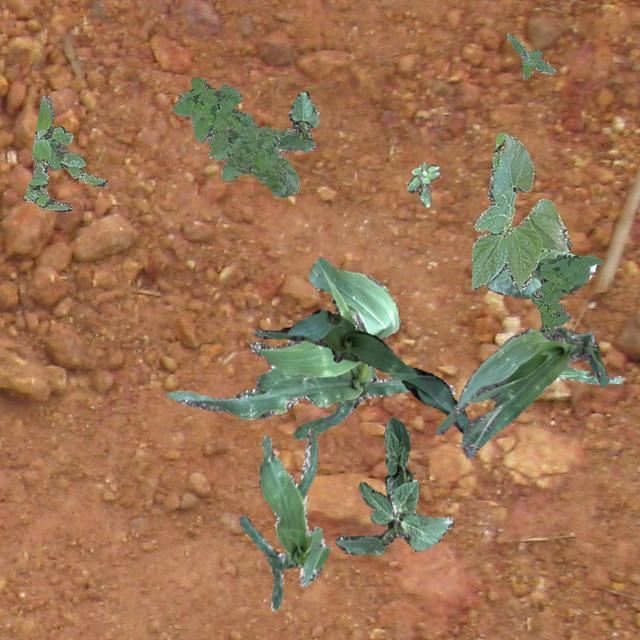crop: (164, 256, 454, 438), (250, 308, 470, 432), (433, 324, 608, 456), (238, 424, 329, 610), (470, 132, 570, 290), (334, 478, 452, 554), (486, 250, 596, 298), (276, 90, 318, 150), (382, 416, 413, 494), (554, 364, 624, 382)
weed: (170, 76, 298, 196), (22, 94, 106, 210), (528, 254, 602, 334), (506, 34, 554, 78), (406, 160, 438, 207)
